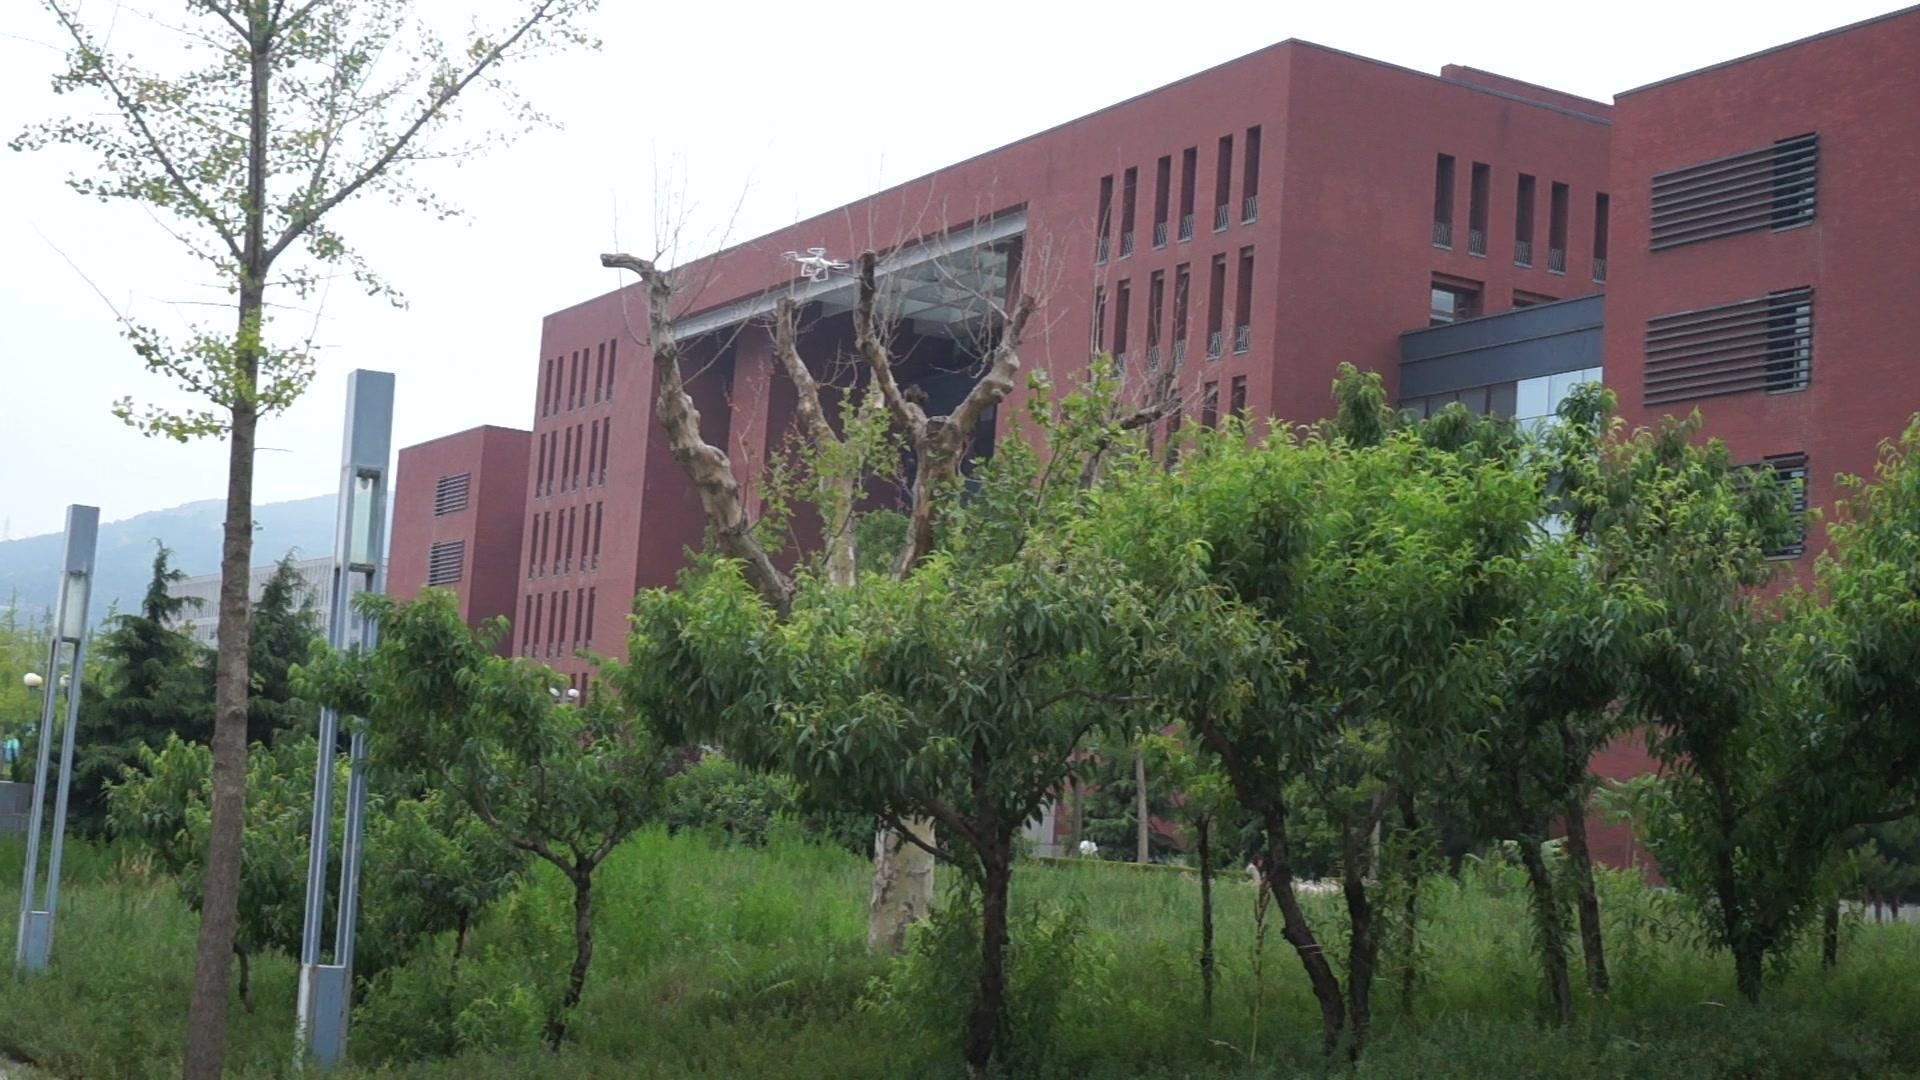UAV: (781, 248, 851, 284)
